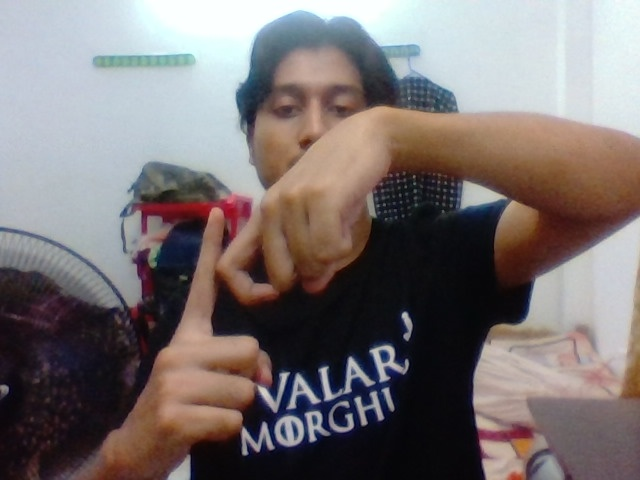K: (156, 193, 298, 434)
